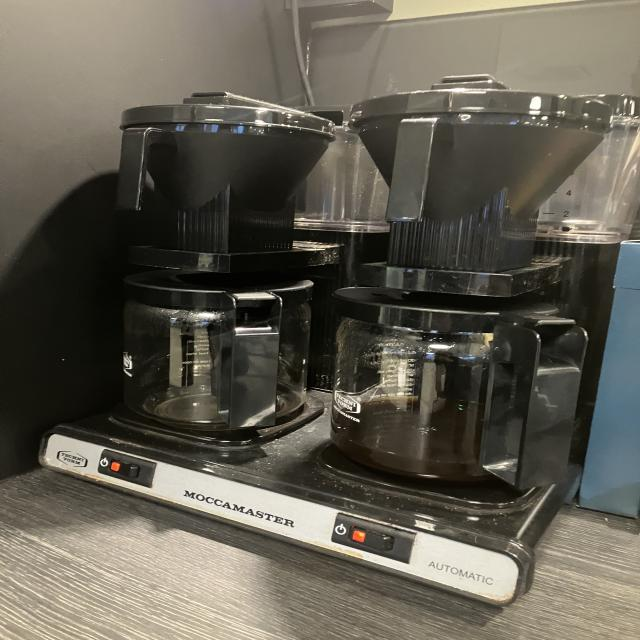nocoffee: (90, 281, 325, 437)
